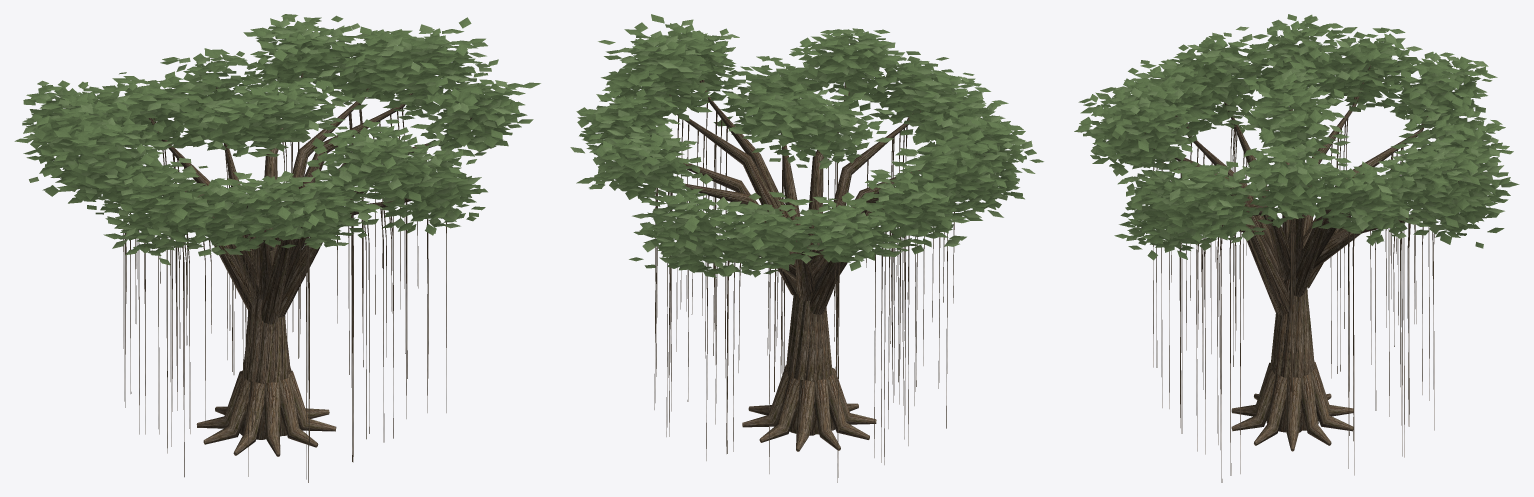
File: prop_banyan_tree.glb
3 renders of one model, left to right at view 1: azimuth 30°, elevation 25°; view 2: azimuth 150°, elevation 25°; view 3: azimuth 270°, elevation 25°, orthographic. The views are drawn at different scales.
Parts seen in each view (by area): view 1: prop_banyan_tree; view 2: prop_banyan_tree; view 3: prop_banyan_tree.
Part boxes in pixels (bbox=[...]): prop_banyan_tree: bbox=[14, 14, 540, 482]; prop_banyan_tree: bbox=[570, 14, 1043, 482]; prop_banyan_tree: bbox=[1074, 14, 1519, 482].
Bounding box in the file's own units: 15 × 12 × 14.
3 materials, 3 textured.
